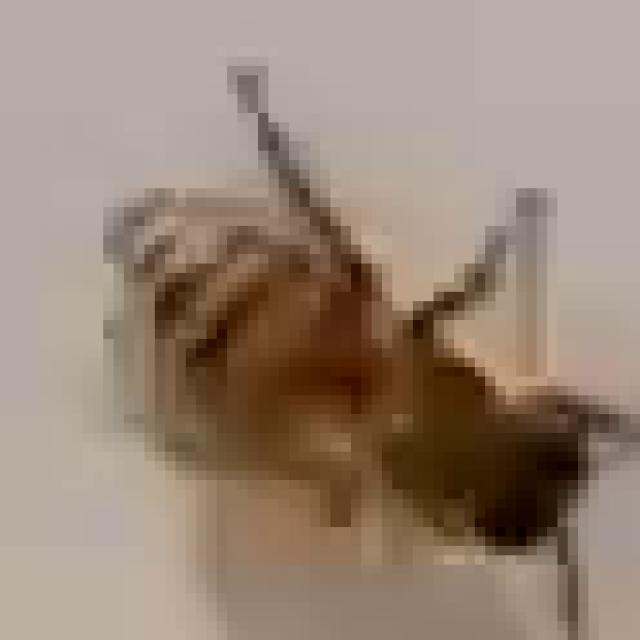honeybee: (82, 94, 640, 630)
